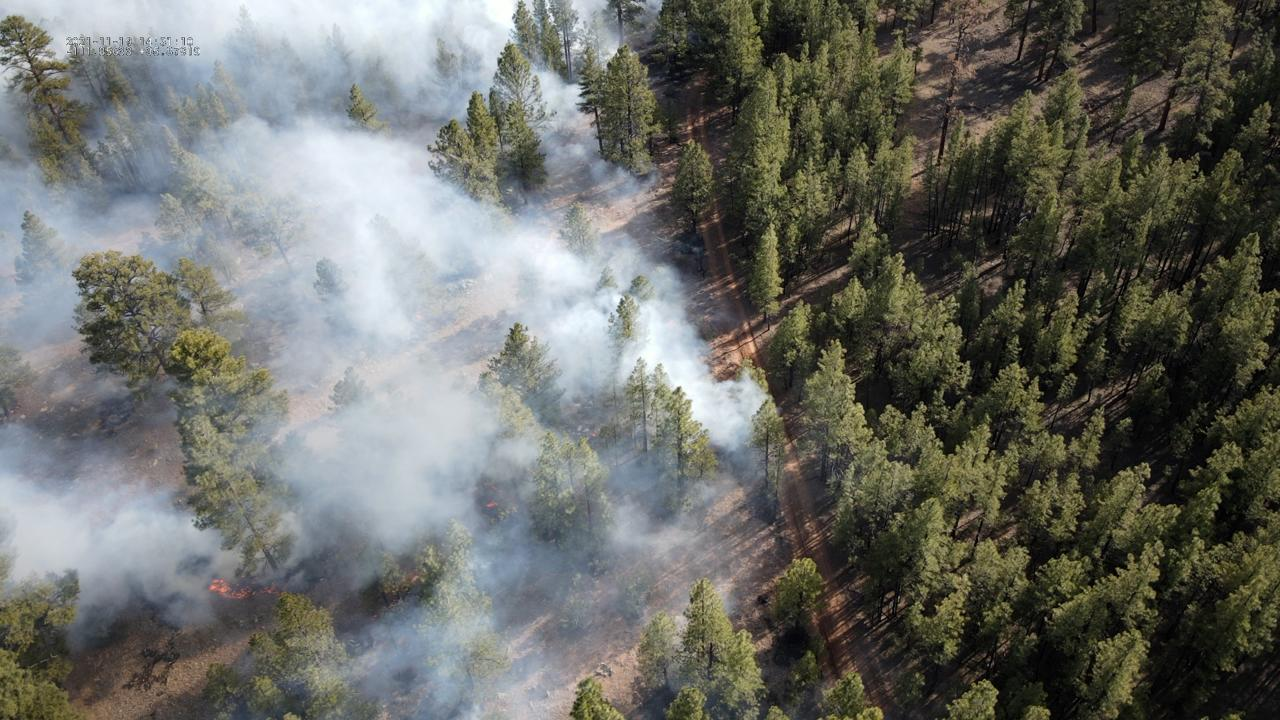fire: (210, 576, 284, 602), (484, 500, 498, 511)
smoke: (1, 0, 773, 720)
